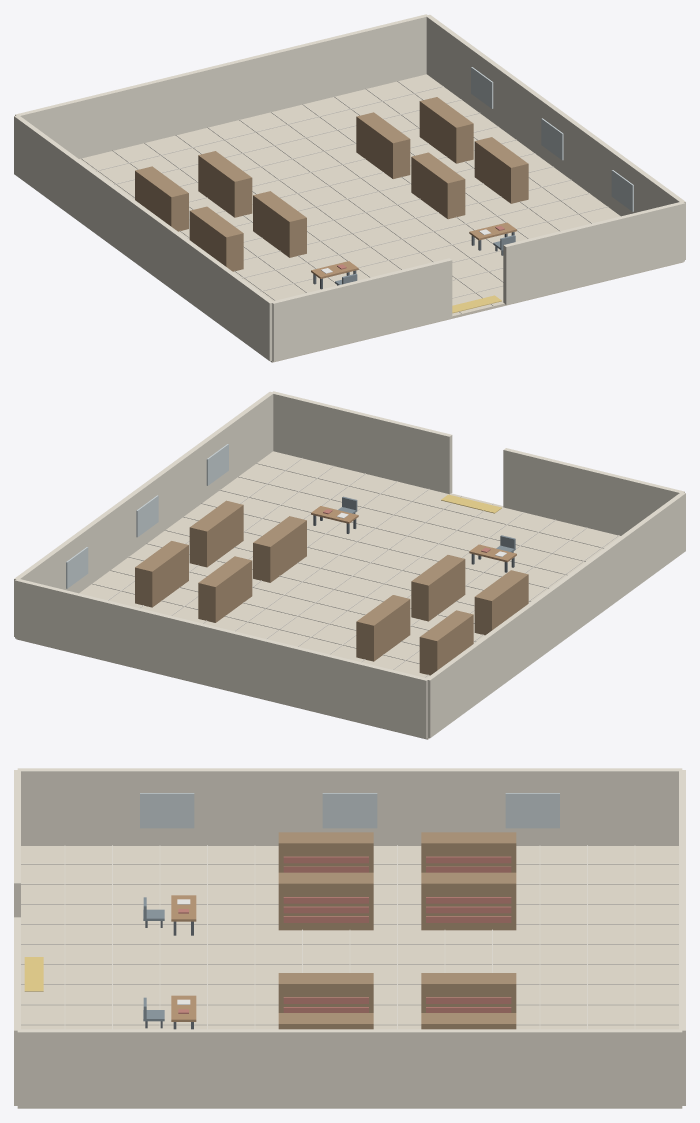
Rendered from library.glb.
The picture shows the model from 3 angles, top to bottom: view 1: azimuth 30°, elevation 25°; view 2: azimuth 150°, elevation 25°; view 3: azimuth 270°, elevation 25°; orthographic projection. The views are drawn at different scales.
Parts seen in each view (by area): view 1: room_library__E8DDC2, room_library__DCCDB0, room_library__7A5636, room_library__E6DCC6, room_library__B4C7CD, room_library__8D5A34; view 2: room_library__E8DDC2, room_library__DCCDB0, room_library__7A5636, room_library__E6DCC6, room_library__B4C7CD, room_library__8D5A34; view 3: room_library__E8DDC2, room_library__DCCDB0, room_library__7A5636, room_library__E6DCC6, room_library__A4473C, room_library__B4C7CD, room_library__8D5A34, room_library__E7B54A, room_library__4A5A66.
Part boxes in pixels (x1,y1,x2,y2): room_library__E8DDC2: [14, 14, 685, 361]; room_library__DCCDB0: [79, 74, 683, 362]; room_library__7A5636: [135, 97, 528, 271]; room_library__E6DCC6: [80, 81, 608, 313]; room_library__B4C7CD: [471, 67, 633, 211]; room_library__8D5A34: [311, 222, 516, 278]; room_library__E8DDC2: [14, 391, 685, 738]; room_library__DCCDB0: [16, 451, 620, 739]; room_library__7A5636: [135, 500, 528, 675]; room_library__E6DCC6: [91, 458, 619, 677]; room_library__B4C7CD: [66, 444, 228, 588]; room_library__8D5A34: [311, 506, 516, 562]; room_library__E8DDC2: [14, 768, 685, 1107]; room_library__DCCDB0: [17, 846, 682, 1108]; room_library__7A5636: [278, 832, 516, 1029]; room_library__E6DCC6: [21, 845, 678, 1029]; room_library__A4473C: [178, 856, 511, 1013]; room_library__B4C7CD: [140, 793, 559, 828]; room_library__8D5A34: [171, 895, 196, 1021]; room_library__E7B54A: [24, 957, 43, 991]; room_library__4A5A66: [143, 897, 164, 1021].
Size of the model in its own units: 26.3 by 3.62 by 28.3.
